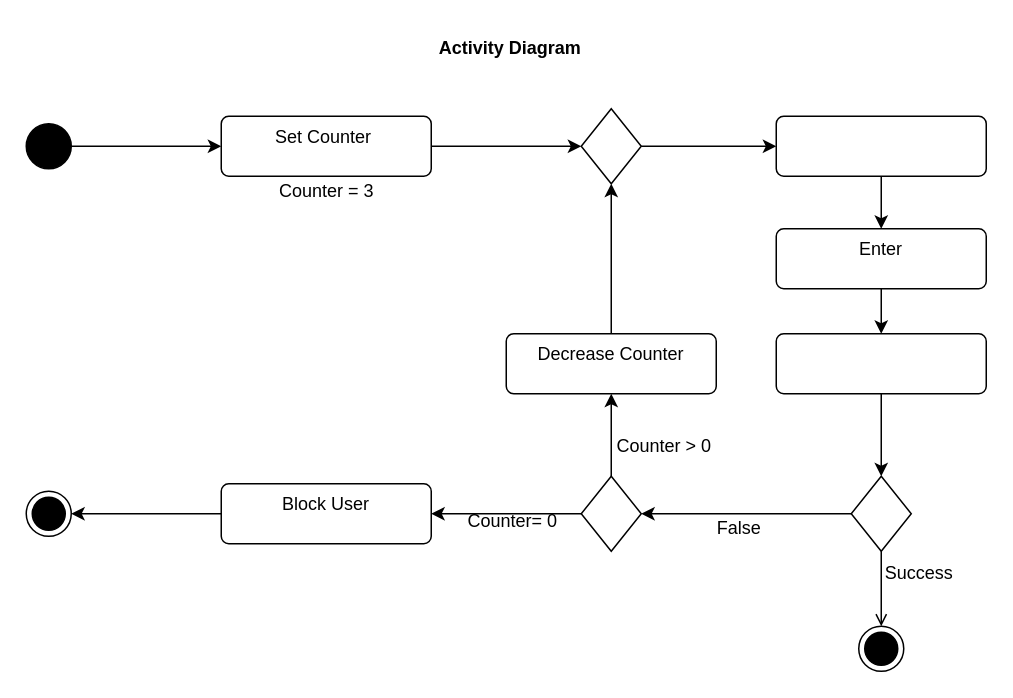
This 1013x698 diagram has some shape labels left out. Here are the shapes that lost their labels. From the top down, the box of each, then its label:
(775, 115, 986, 176): Query UserID and Password
(775, 332, 986, 394): Verify
